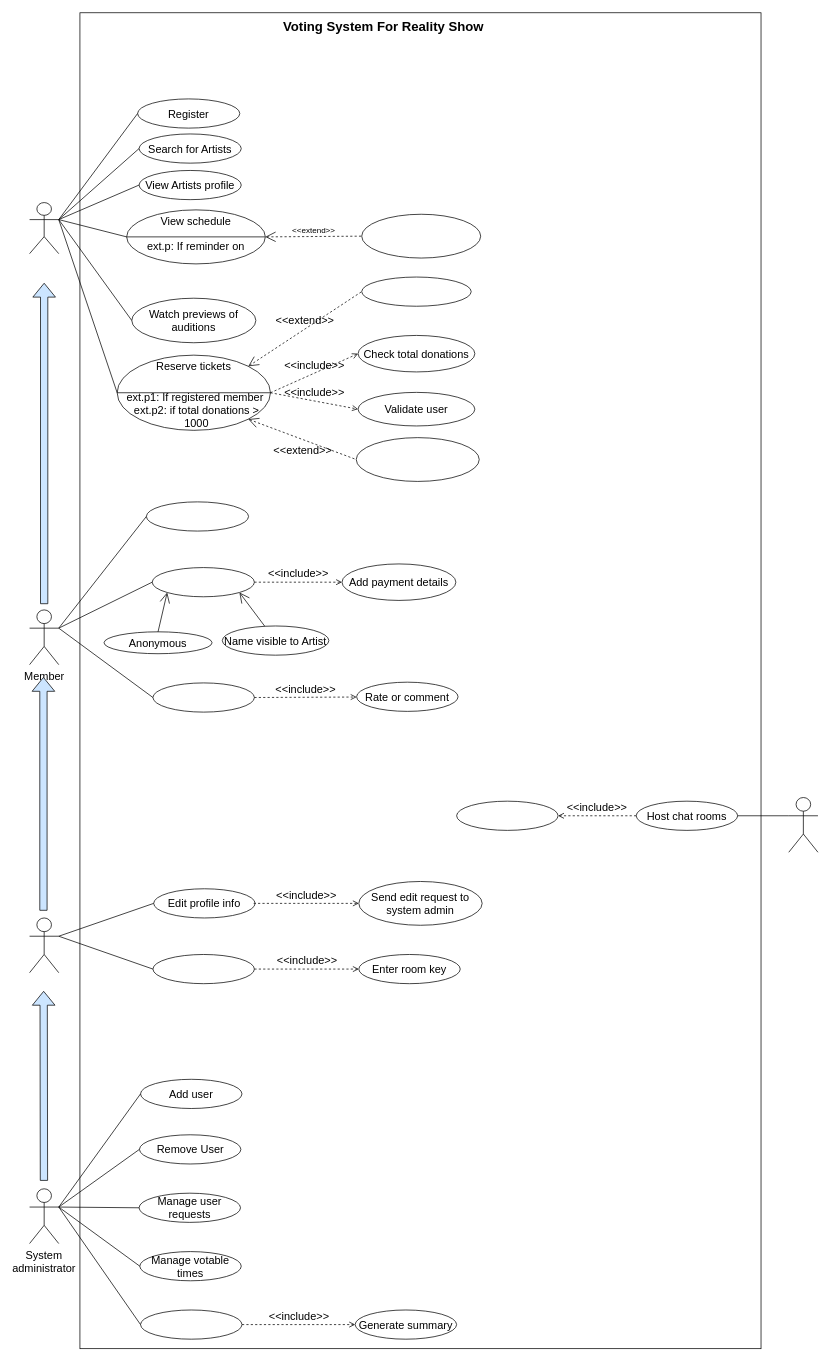
Some shapes in this 839 by 1361 pixel diagram are drawn without their labels. Here are the shapes that lost their labels. From the top down, the box of each, then its label:
(29, 202, 59, 254): Guest
(361, 214, 481, 258): send email or text message reminder
(361, 276, 471, 306): 10% discount
(356, 437, 479, 481): One free ticket for the finals
(146, 501, 249, 531): Vote for Artists
(151, 567, 254, 597): Donate to Artists
(152, 682, 254, 712): Watch full auditions
(456, 800, 558, 830): Generate room key
(788, 797, 818, 852): Coaches
(29, 917, 59, 973): Artists
(152, 954, 254, 984): Join chat rooms
(140, 1309, 242, 1339): View vote results
